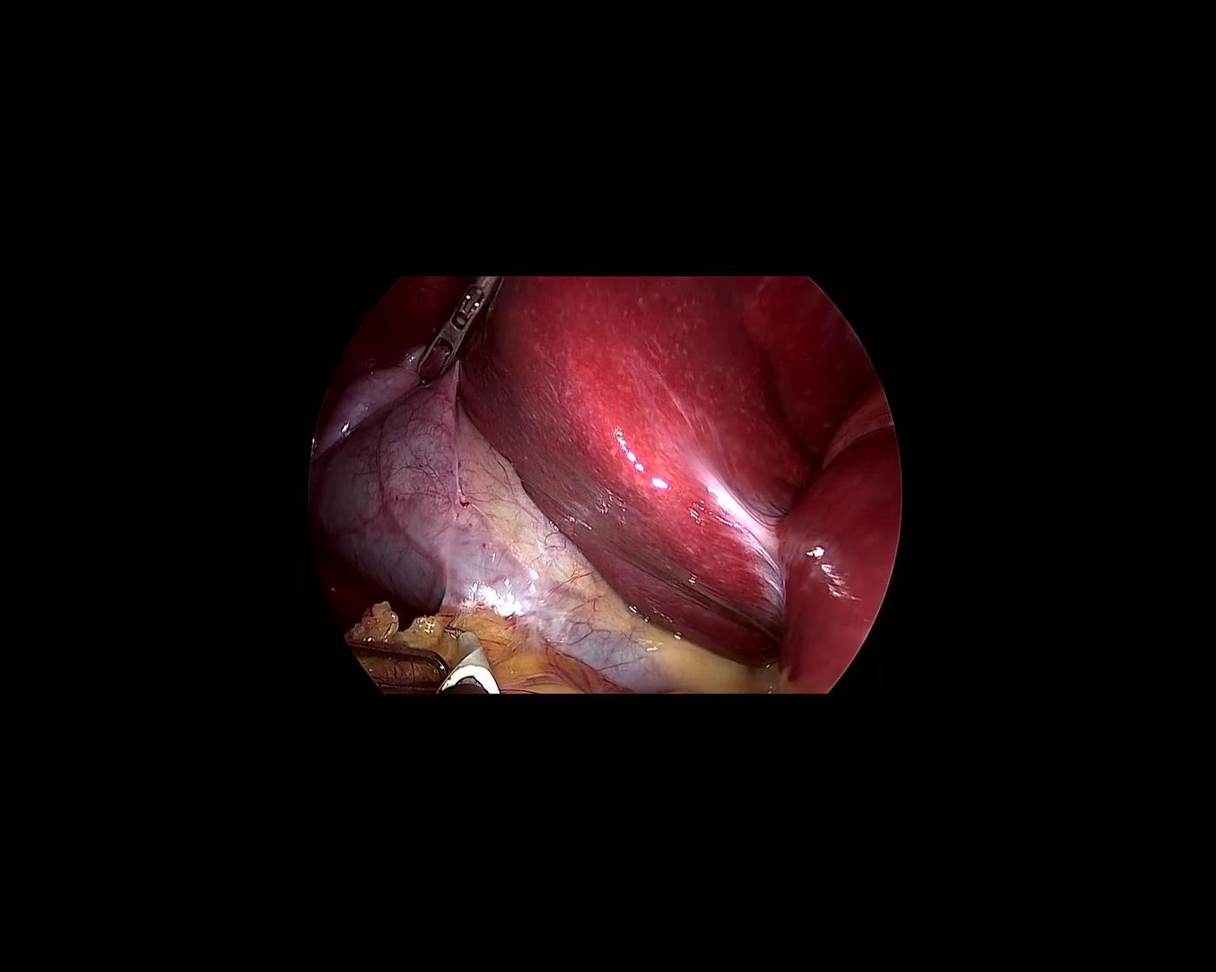Cautery: (436, 626, 501, 693)
Forceps: (411, 261, 508, 388), (338, 634, 454, 704)
Gallbladder: (261, 326, 714, 814)
Liver: (311, 90, 1009, 720)
